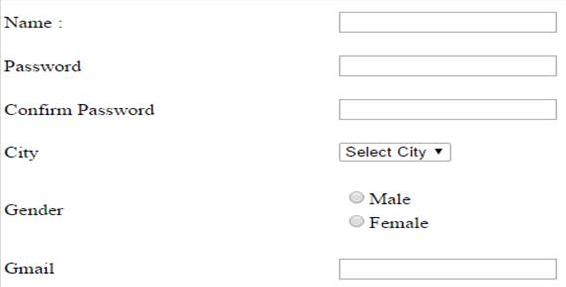field: (338, 53, 557, 78), (336, 10, 559, 34), (336, 97, 557, 121), (338, 258, 558, 280), (339, 141, 453, 163)
field_with_label: (2, 8, 560, 36), (4, 51, 560, 79), (4, 94, 558, 122), (4, 256, 559, 281), (5, 139, 455, 165)
radio: (349, 189, 365, 207), (350, 213, 365, 231)
radio_with_label: (347, 211, 427, 232), (345, 187, 411, 209)
